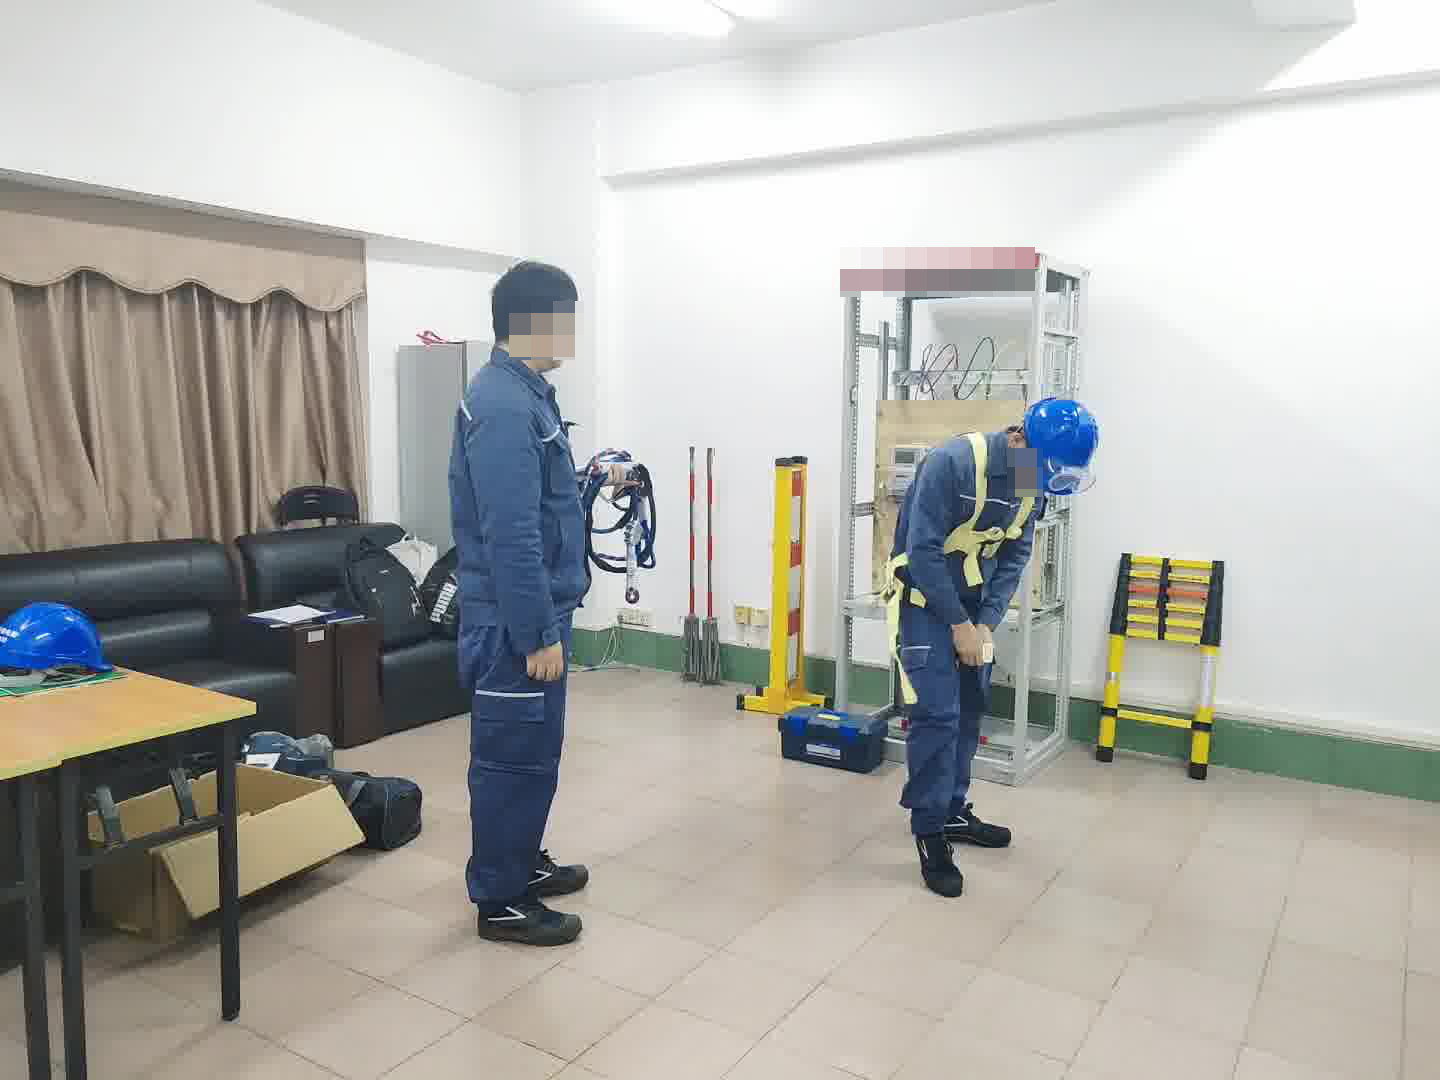downsuit: (455, 624, 574, 902), (896, 569, 1013, 832)
halt: (1008, 395, 1099, 496)
hand: (950, 619, 998, 667), (522, 636, 563, 679)
inear: (999, 417, 1031, 463)
noear: (518, 310, 568, 357)
person: (887, 389, 1105, 901), (446, 255, 591, 949)
safebelt: (885, 429, 1037, 720)
unhalt: (488, 260, 585, 367)
upsuit: (452, 360, 585, 610), (896, 429, 1053, 563)
